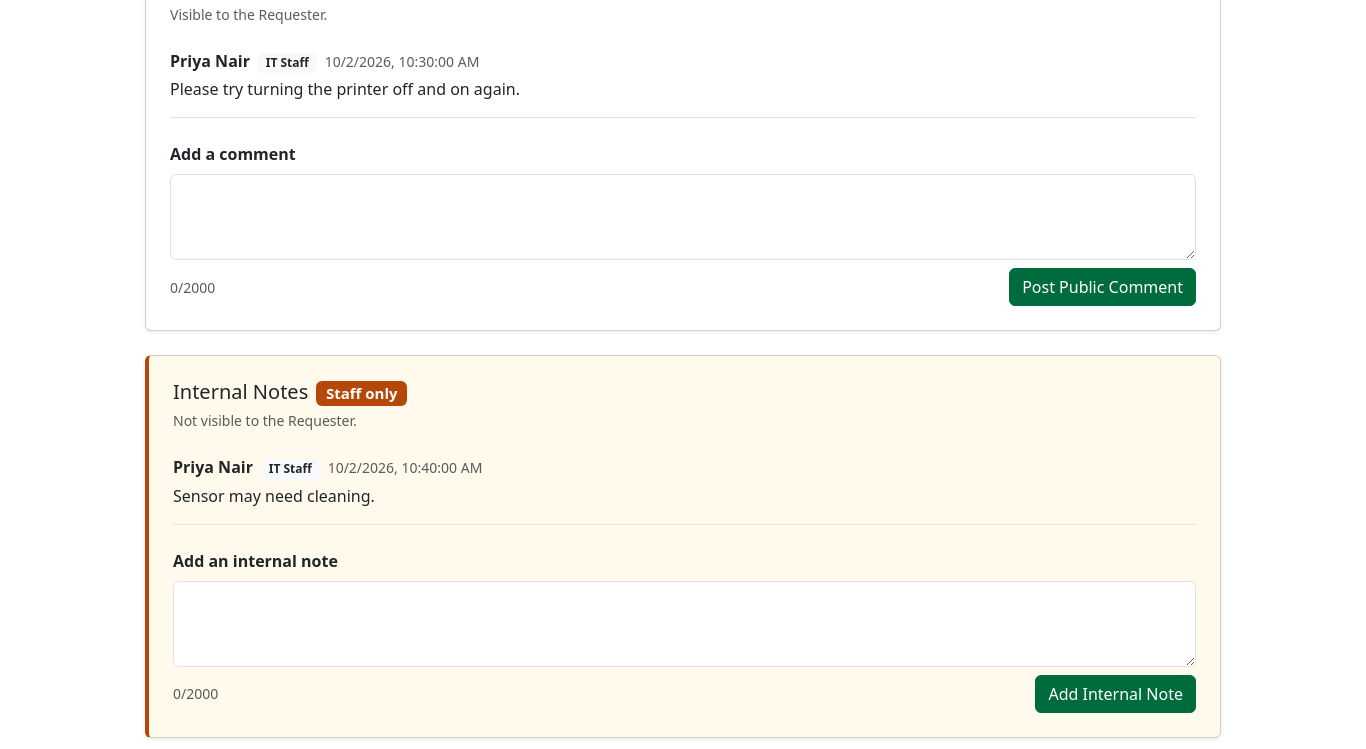
Test: Staff Ticket Detail › validates an empty note and keeps the text when saving fails
(page scrolled)
expect the text box labelled "Add an internal note" is shown: met, box [173,581,1196,667]
Step 1. Click the button "Add Internal Note" → (1116, 694), box [1035,675,1196,713]
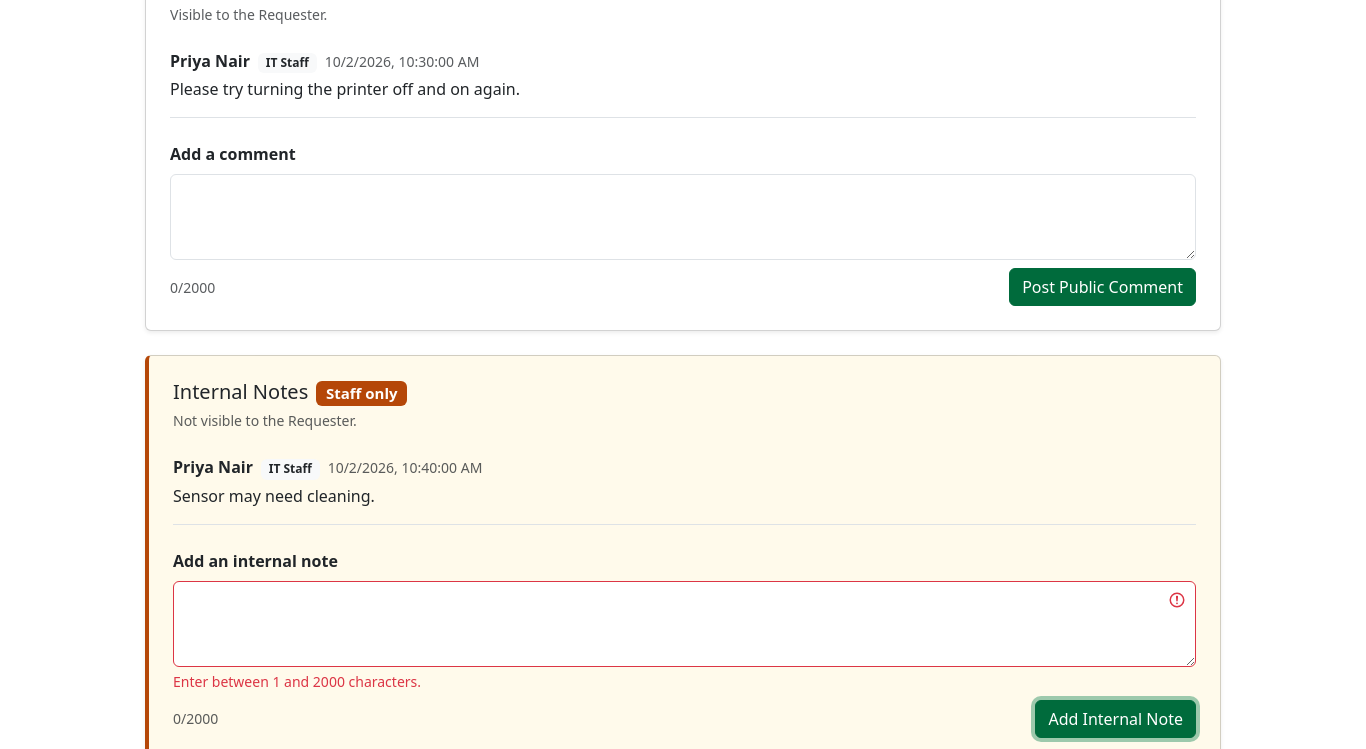
expect the text "Enter between 1 and 2000 characters." is shown: met, box [173,672,421,691]
Step 2. Type "Keep me" into the text box labelled "Add an internal note" → (684, 624), box [173,581,1196,667]
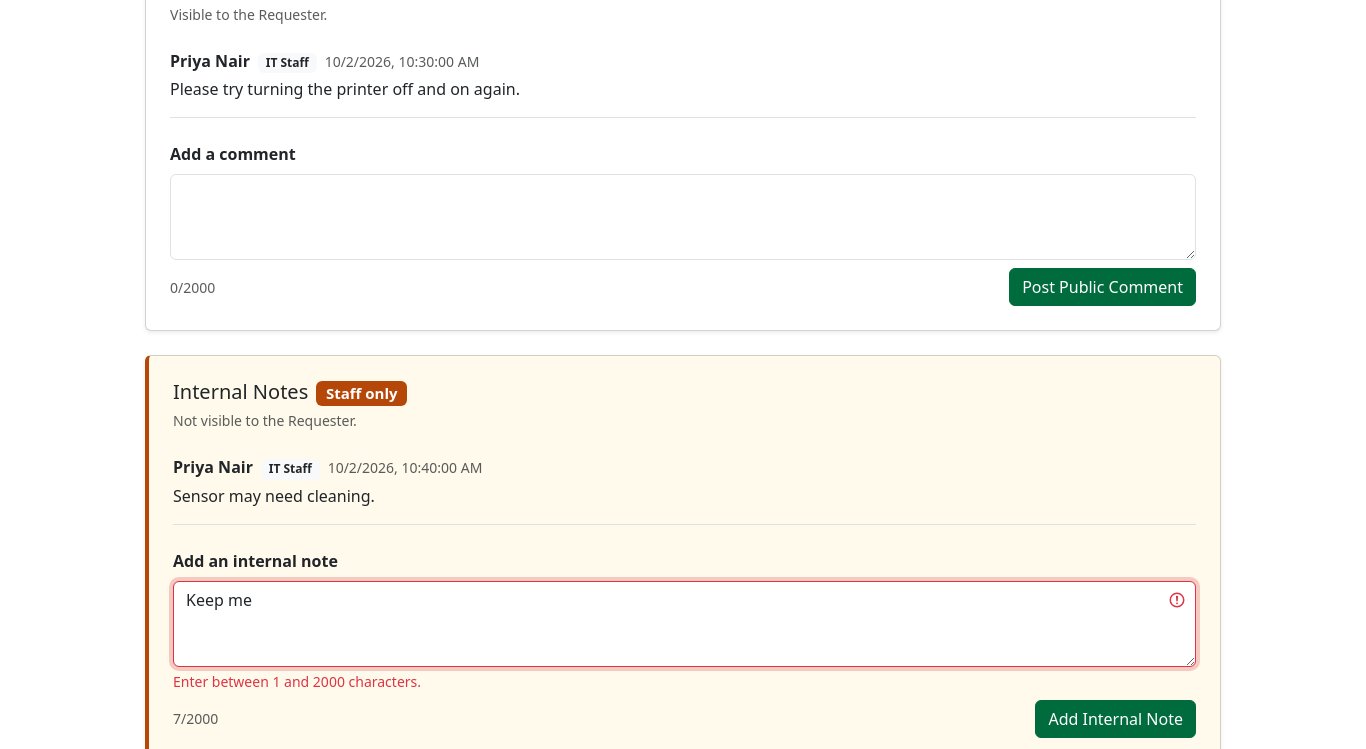
Step 3. Click the button "Add Internal Note" → (1116, 719), box [1035,700,1196,738]
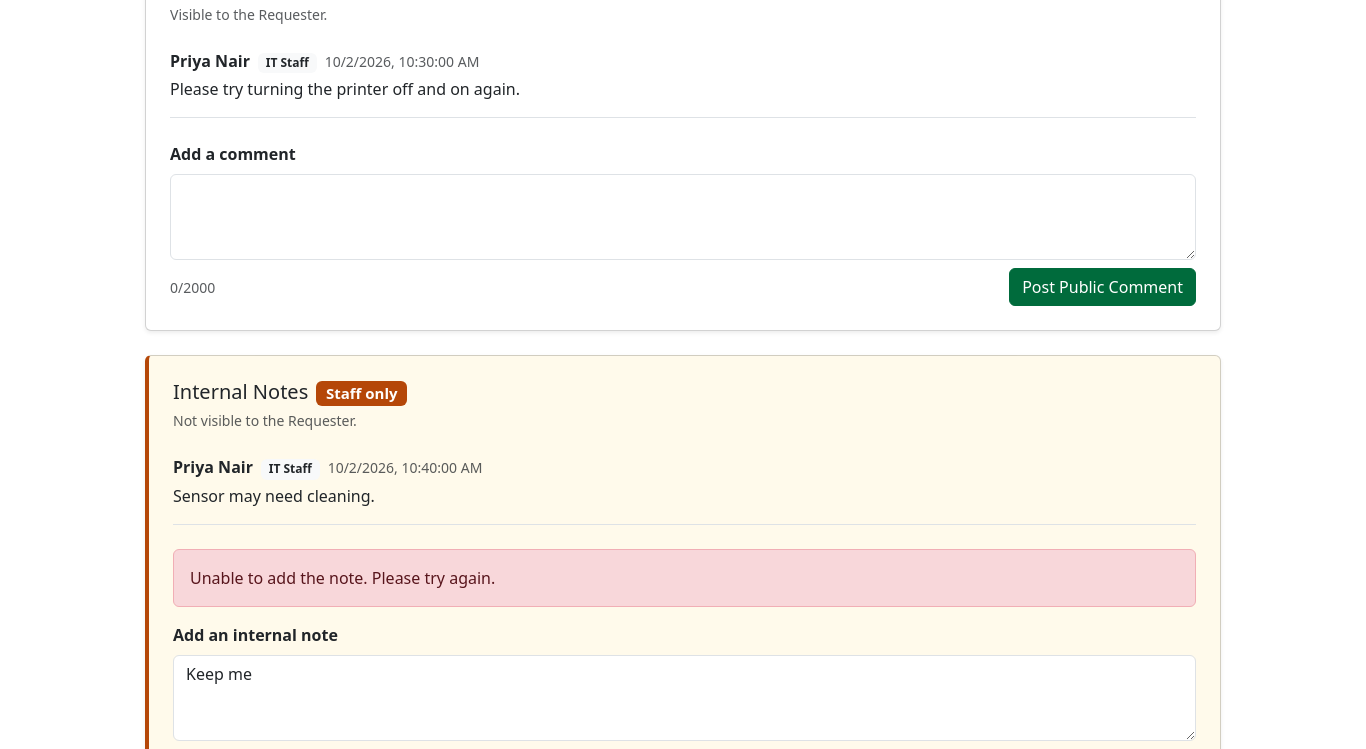
expect the text "Unable to add the note. Please try again." is shown: met, box [173,549,1196,607]
